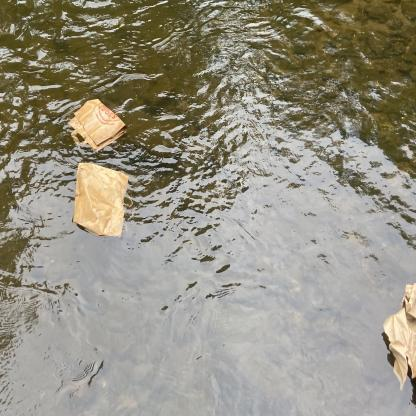trash: (70, 160, 134, 240), (380, 278, 416, 386), (66, 95, 129, 153)
